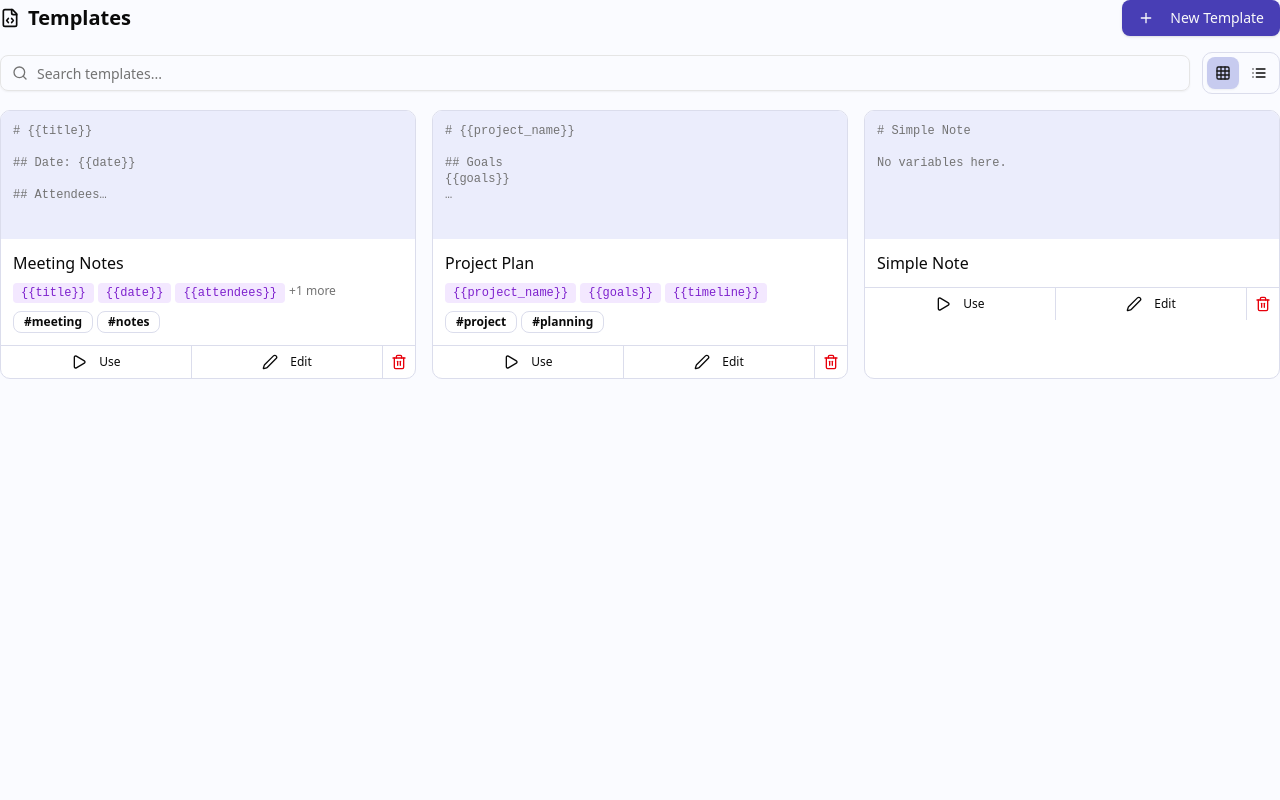
Test case: TemplateManager › Delete Template › should show delete confirmation dialog
This screenshot has width=1280, height=800.
Expected: the heading "Meeting Notes" is shown, left=13, top=252, right=124, bottom=274
Click the button without text below "more" at (398, 362), box left=382, top=346, right=415, bottom=378
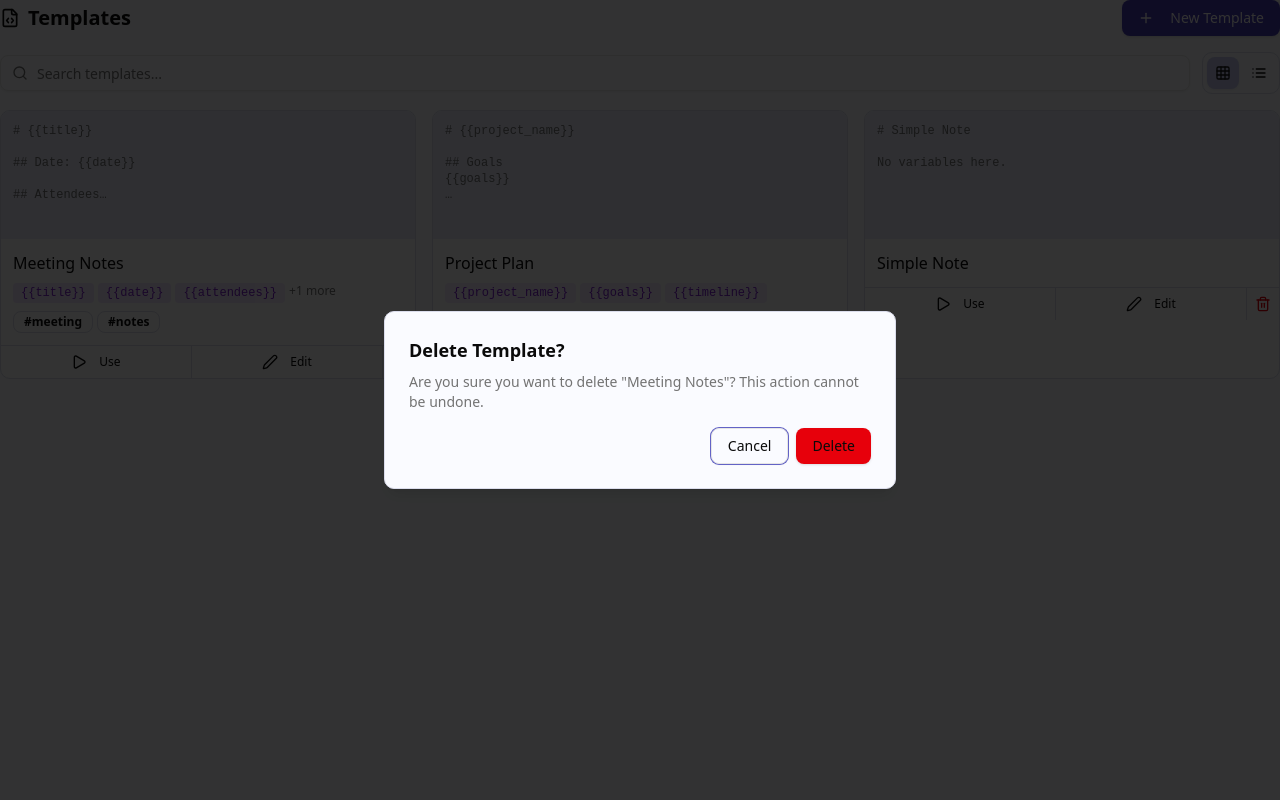
Expected: the heading "Delete Template?" is shown, left=409, top=338, right=564, bottom=362
Expected: the text "Are you sure you want to delete \"Meeting Notes\"" is shown, left=409, top=372, right=871, bottom=412
